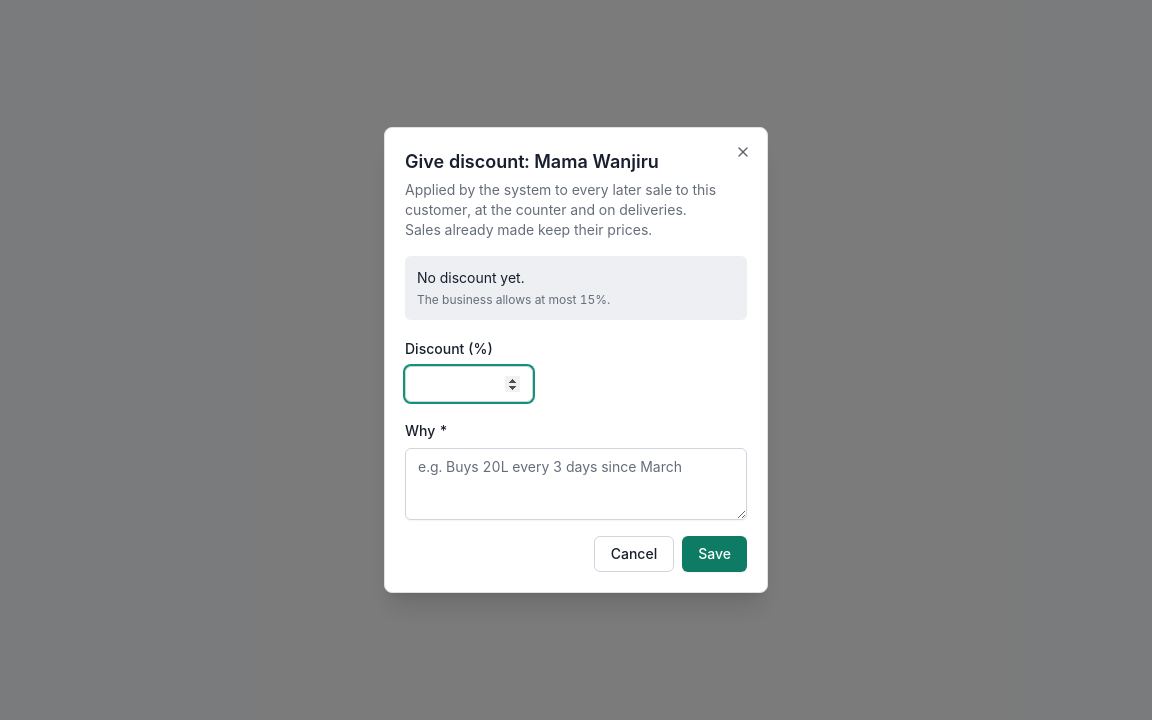
Test case: discount dialog › shows the API’s refusal above the cap
Type "20" into the number field labelled "Discount (%)" at (469, 384), box [405,366,533,402]
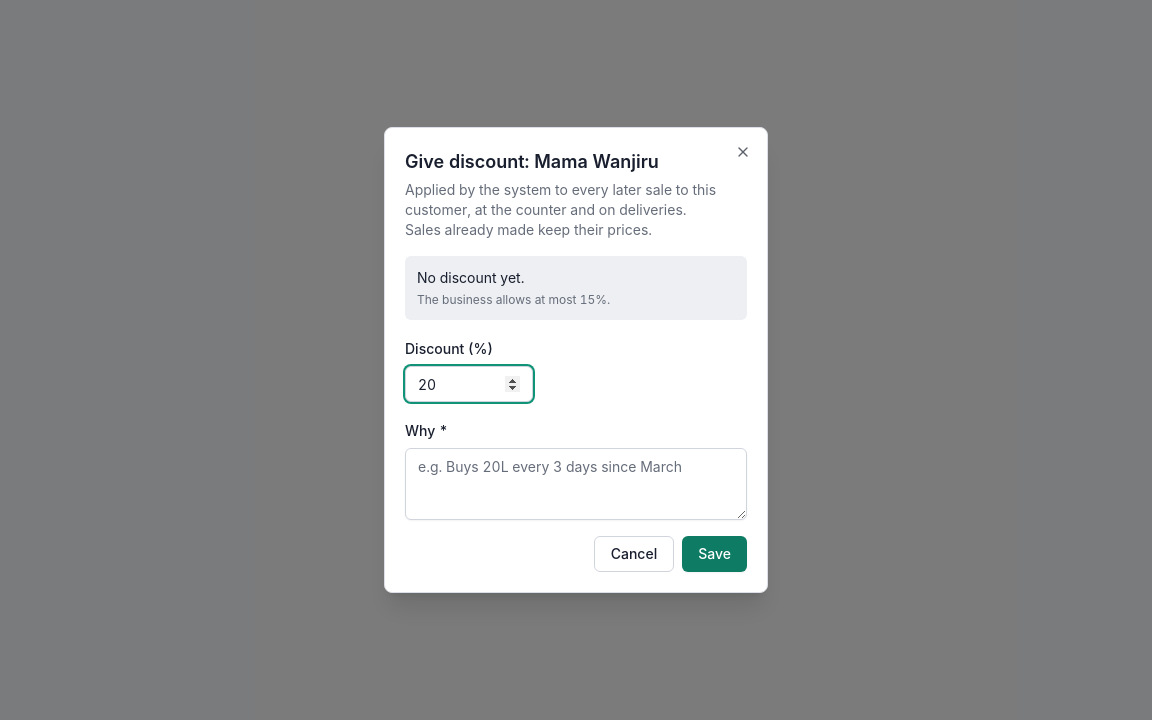
Type "Big buyer" into the text box labelled "Why *" at (576, 484), box [405,448,747,520]
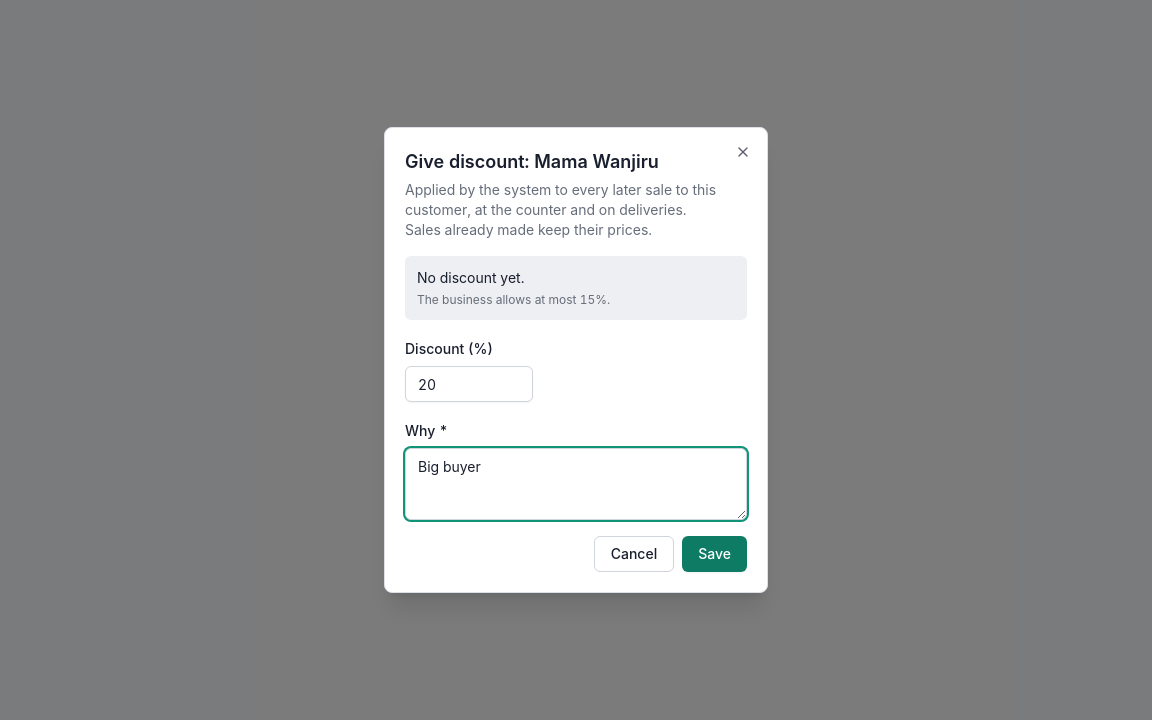
Click the button "Save" at (715, 554), box [682,536,747,572]
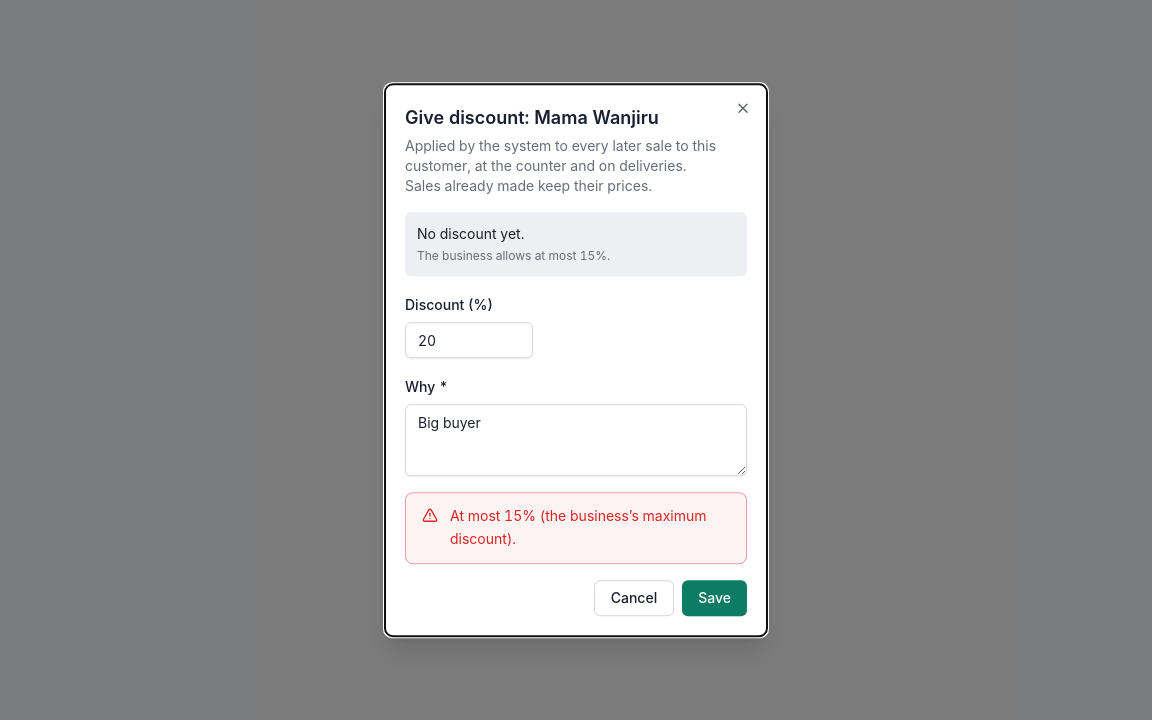
Now the text "At most 15% (the business’s maximum discount)." is shown, box [450,505,730,551]
